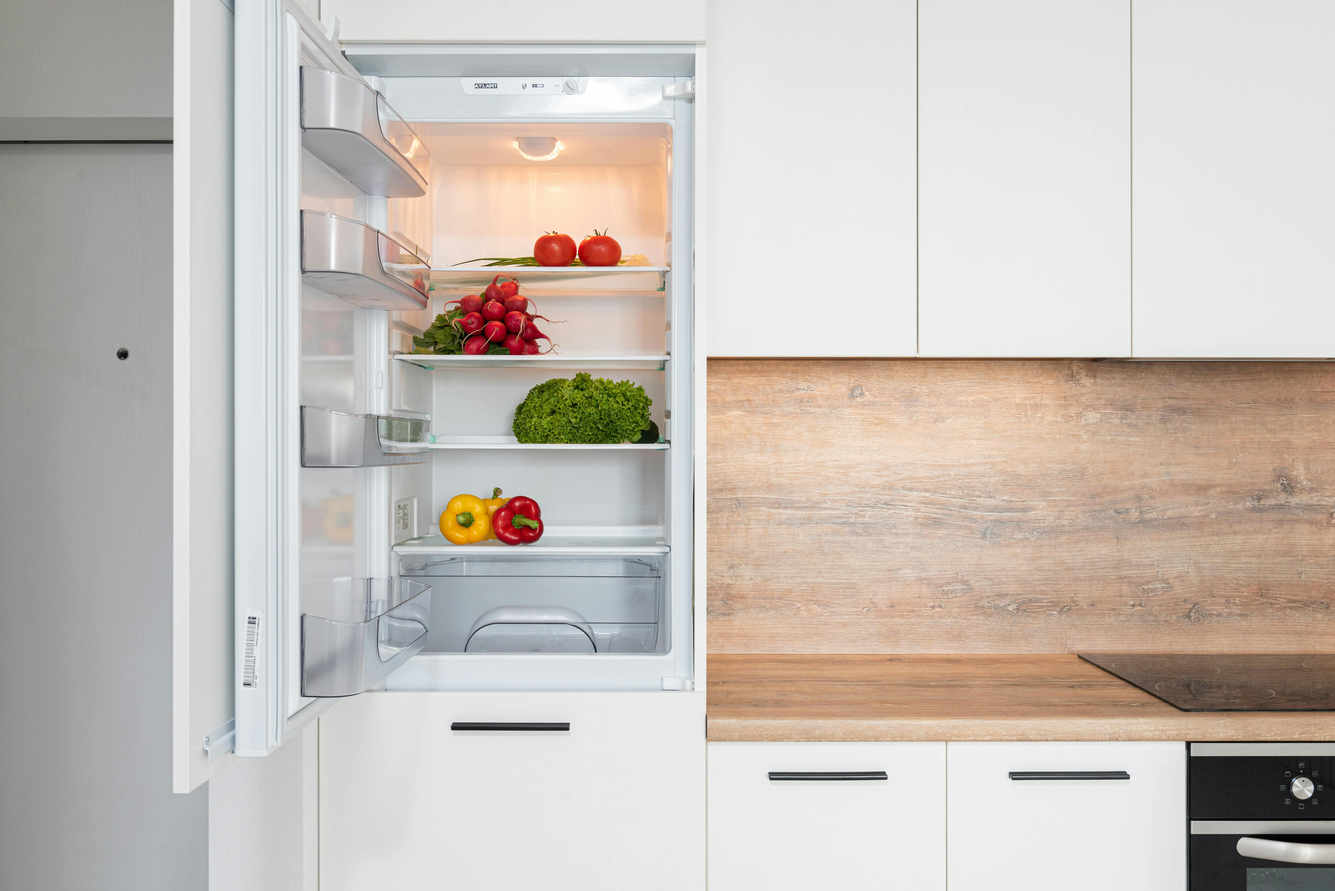bell pepper: (421, 450, 608, 581)
tomato: (492, 205, 657, 279)
